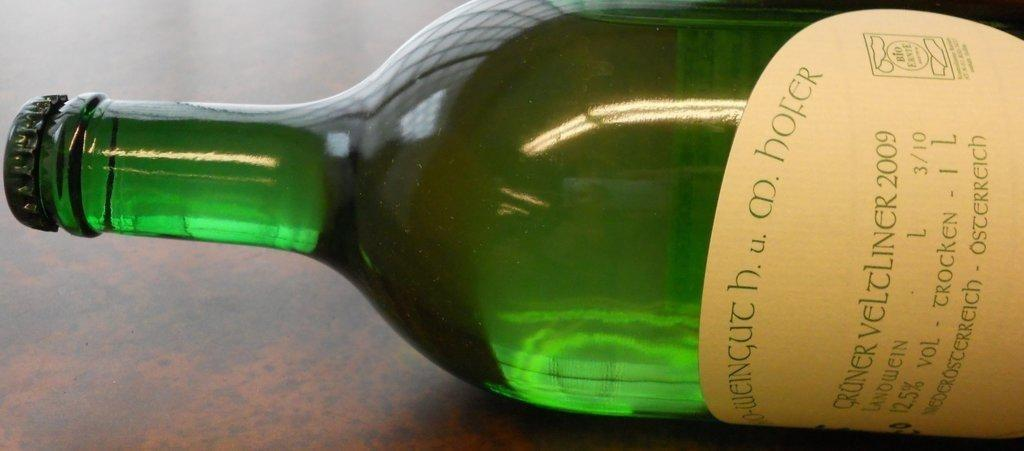bottle-glass: (2, 1, 1023, 444)
